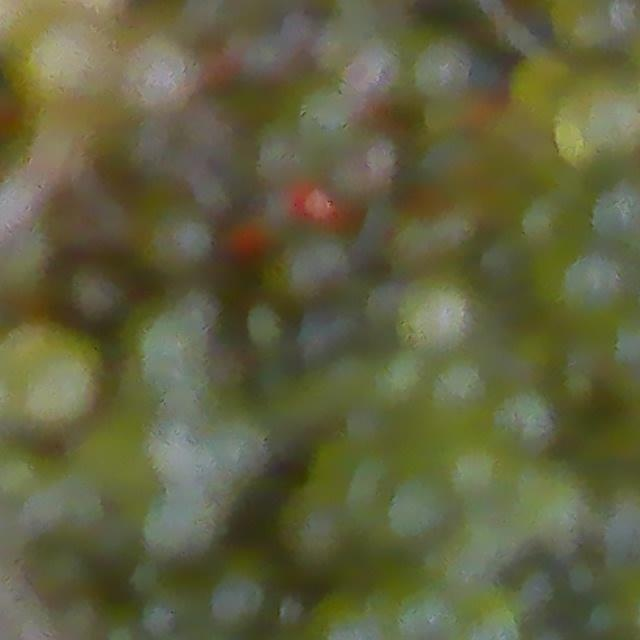SeaGrape: (506, 455, 603, 555), (530, 240, 632, 332), (15, 326, 103, 428), (392, 270, 485, 361), (118, 32, 205, 119), (486, 377, 566, 459), (141, 203, 218, 282), (423, 348, 498, 428), (405, 34, 476, 106), (60, 259, 129, 330)
